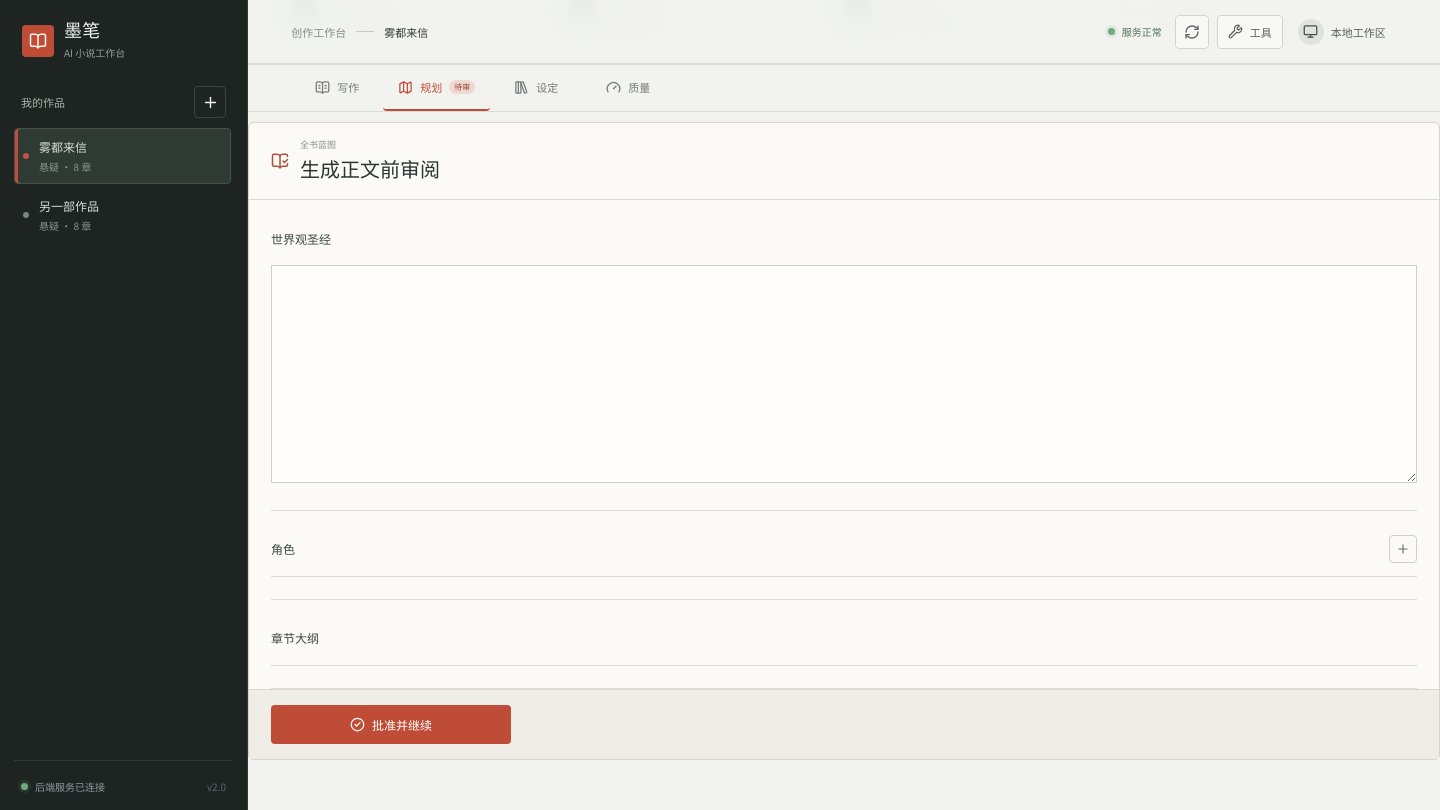
Test: App writing navigation › clears a planning submission error when another novel has the same review stage
(page scrolled)
Step 1. Click the button "批准并继续" → (391,724), box top-left (271, 705), bottom-right (511, 744)
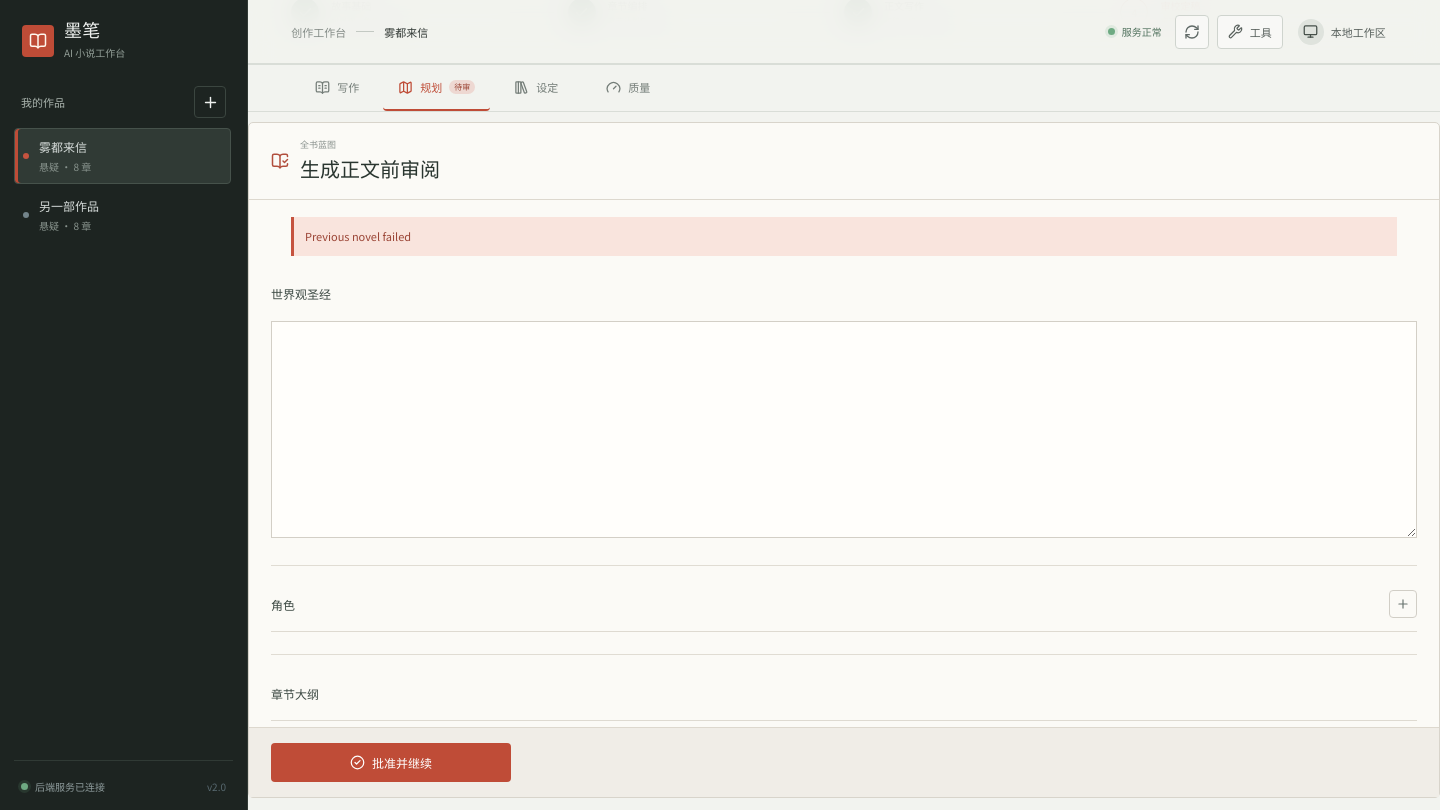
Expected: the message "Previous novel failed" is shown, top-left (291, 217), bottom-right (1397, 256)
